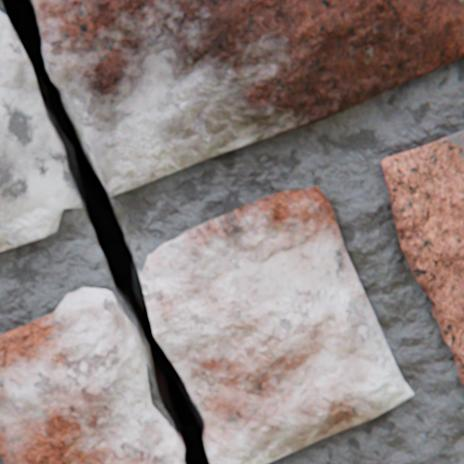brick: (380, 131, 463, 386)
broken_brick: (32, 0, 463, 196), (140, 187, 412, 463), (0, 288, 184, 463), (0, 12, 82, 251)
crack: (0, 0, 210, 463)
